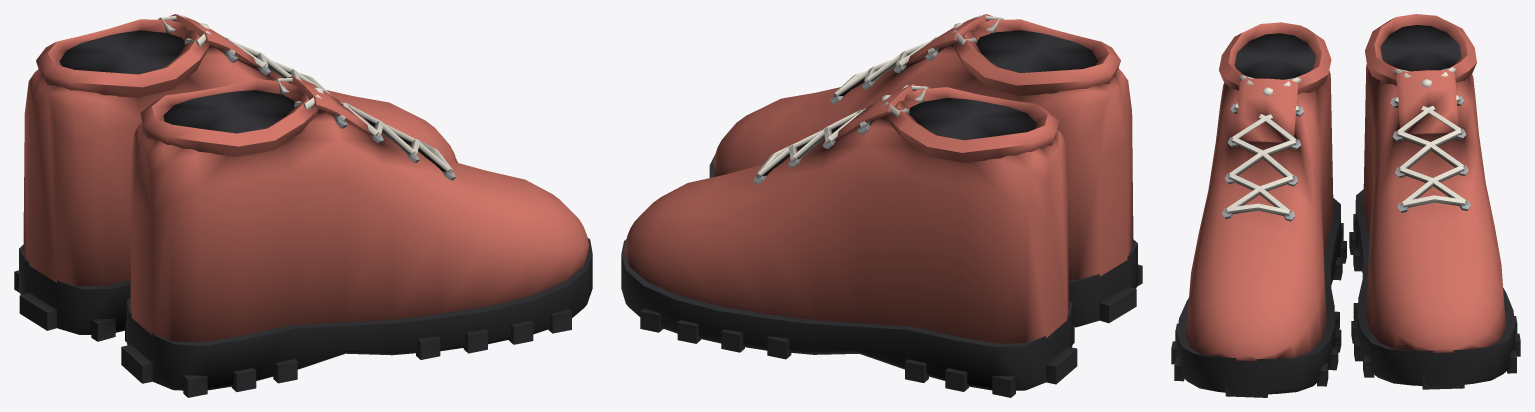
The model's file is wear_shoes.glb.
3 views of the same model, side by side, from view 1: azimuth 30°, elevation 25°; view 2: azimuth 150°, elevation 25°; view 3: azimuth 270°, elevation 25° (orthographic). The views are drawn at different scales.
Parts seen in each view (by area): view 1: PART; view 2: PART; view 3: PART.
Boxes of the visible parts, left/top/right/bottom form: PART: left=14, top=14, right=592, bottom=397; PART: left=621, top=14, right=1142, bottom=397; PART: left=1171, top=14, right=1520, bottom=397.
Size of the model in its own units: 0.3151 by 0.1696 by 0.2499.
